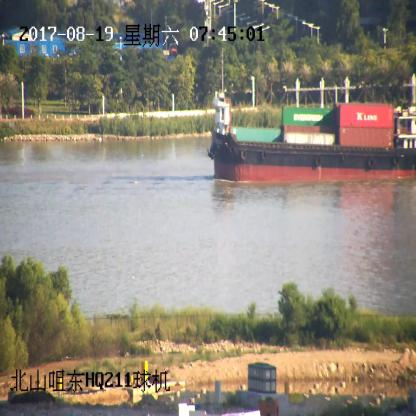Container Ship: (210, 59, 416, 186)
